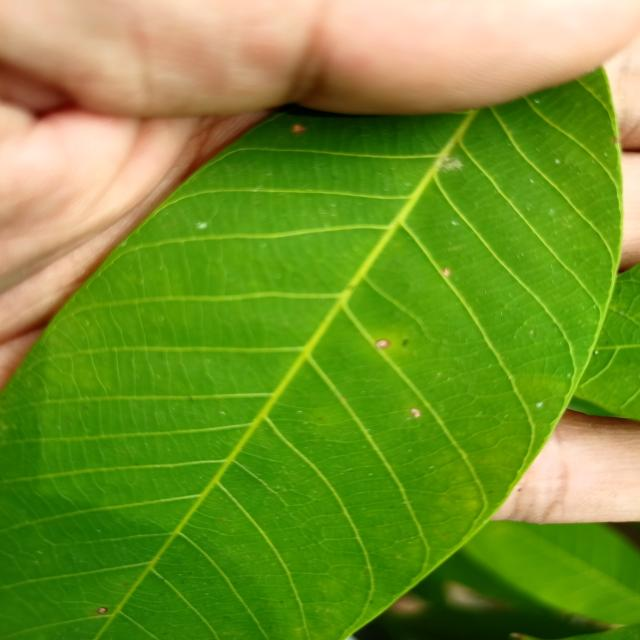Colletotrichum: (376, 338, 390, 349)
